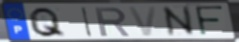F: (193, 5, 226, 38)
I: (80, 6, 94, 38)
N: (160, 5, 198, 38)
Q: (27, 6, 68, 39)
R: (93, 6, 132, 38)
V: (126, 6, 159, 38)
